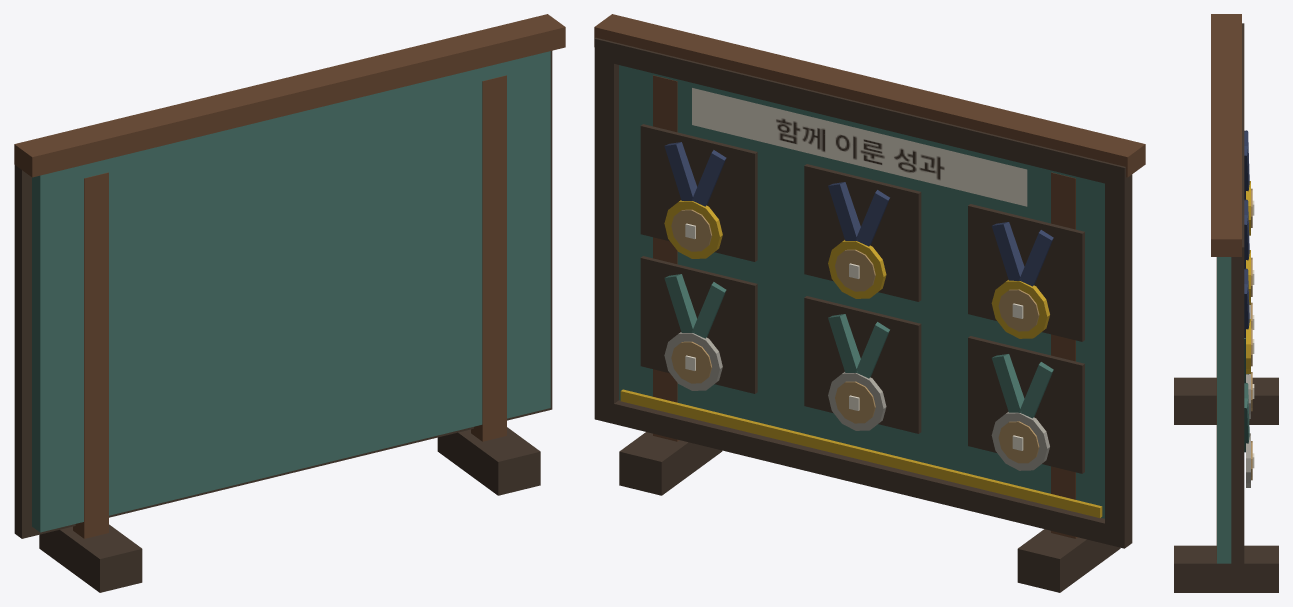
File: A03_Medal_Display_Wall.fbx
3 views of the same model, side by side, from view 1: azimuth 30°, elevation 25°; view 2: azimuth 150°, elevation 25°; view 3: azimuth 270°, elevation 25° (orthographic). The views are drawn at different scales.
Parts seen in each view (by area): view 1: Structure; view 2: Structure, Medals, Title; view 3: Structure, Medals.
Boxes of the visible parts, x1,y1,x2,y2 form: Structure: (14,14,565,592); Structure: (594,14,1145,592); Medals: (640,124,1084,473); Title: (692,88,1027,206); Structure: (1174,14,1278,592); Medals: (1244,130,1254,487).
Bounding box in the file's own units: 3.3 × 2.55 × 0.65.
Materials: 9 (1 with a texture image).
